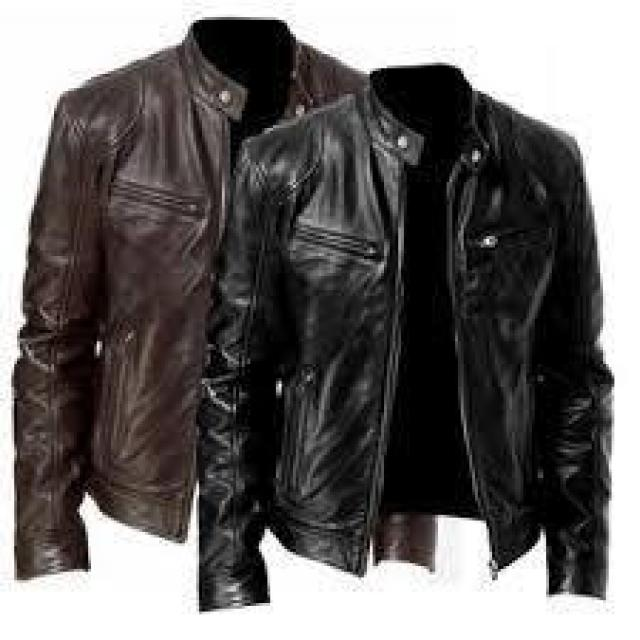jacket: (207, 61, 608, 602), (10, 17, 348, 575)
